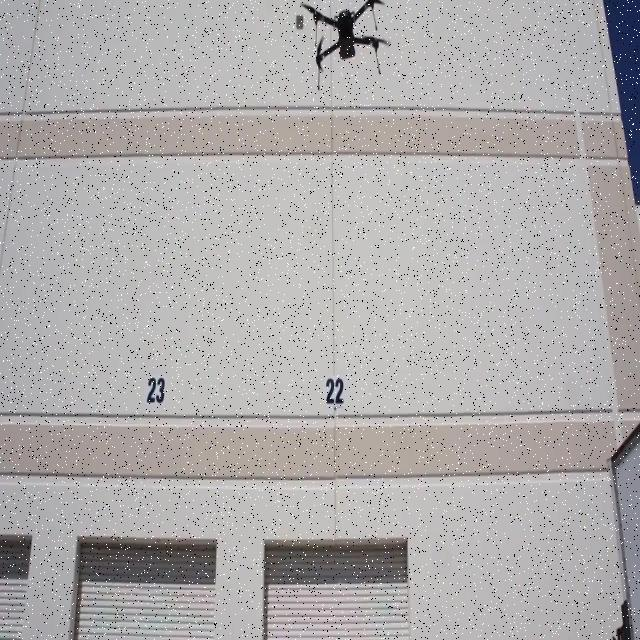UAV: (300, 0, 390, 90)
